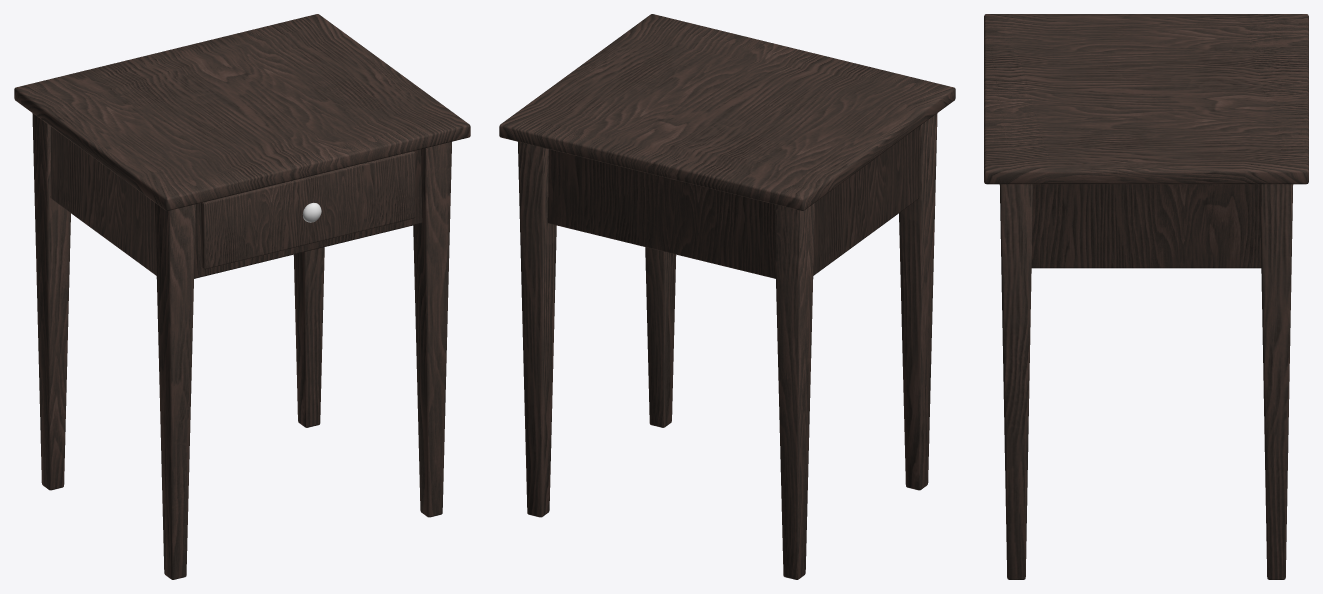
Rendered from home-table1.glb.
3 renders of one model, left to right at view 1: azimuth 30°, elevation 25°; view 2: azimuth 150°, elevation 25°; view 3: azimuth 270°, elevation 25°, orthographic. The views are drawn at different scales.
Parts seen in each view (by area): view 1: commode_dark_wood_0; view 2: commode_dark_wood_0; view 3: commode_dark_wood_0.
Boxes of the visible parts, x1,y1,x2,y2 form: commode_dark_wood_0: (14, 14, 470, 579); commode_dark_wood_0: (499, 14, 955, 579); commode_dark_wood_0: (984, 14, 1308, 579).
Bounding box in the file's own units: 0.5407 × 0.668 × 0.4699.
Materials: 2 (1 with a texture image).
